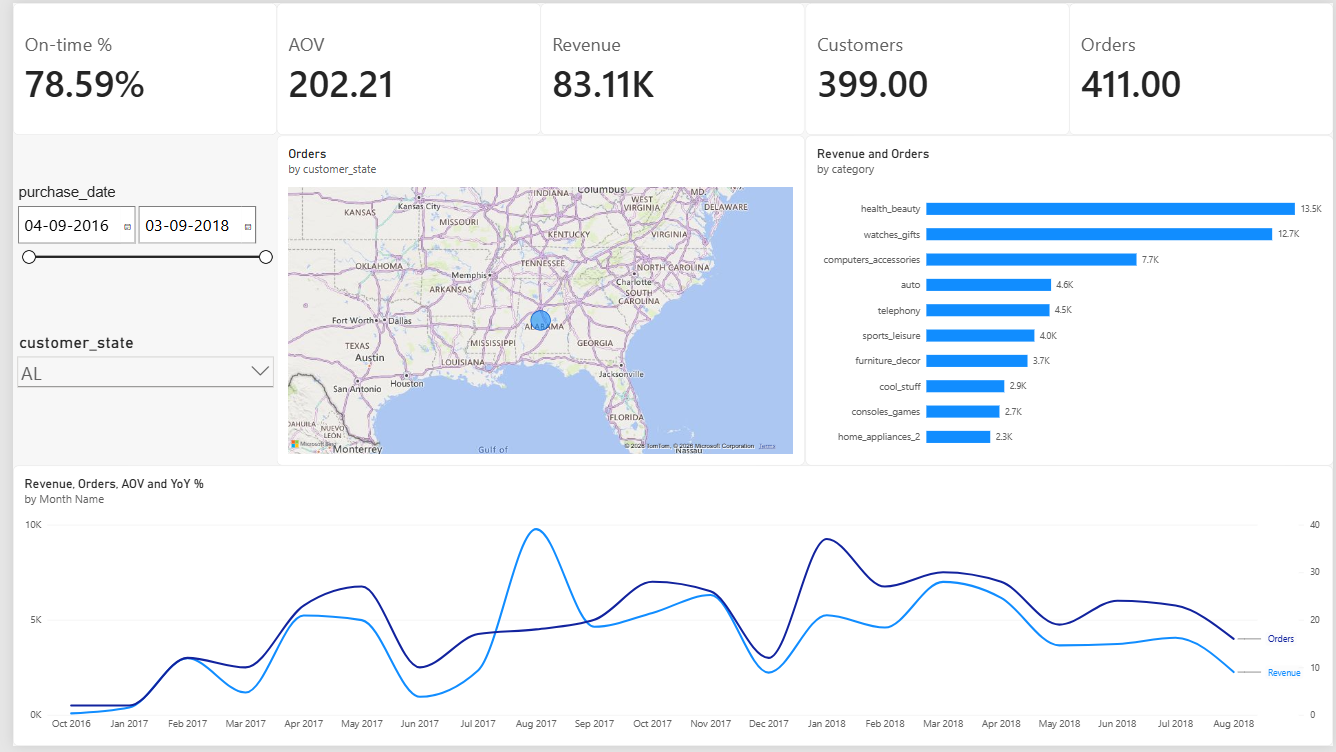

The dashboard page shown, as its layout file describes it:
{"tool":"powerbi","page":{"name":"Overview","canvas":[1920,1080],"ordinal":0},"visuals":[{"type":"cardVisual","fields":{"Data":["DimDate.Revenue"]},"box":[768,0,384,192],"z":0},{"type":"cardVisual","fields":{"Data":["DimDate.Orders"]},"box":[1536,0,384,192],"z":1000},{"type":"cardVisual","fields":{"Data":["DimDate.Customers"]},"box":[1152,0,384,192],"z":2000},{"type":"cardVisual","fields":{"Data":["DimDate.AOV"]},"box":[384,0,384,192],"z":3000},{"type":"cardVisual","fields":{"Data":["DimDate.On-time %"]},"box":[0,0,384,192],"z":4000},{"type":"lineChart","fields":{"Category":["DimDate.Month Name"],"Y":["DimDate.Revenue"],"Y2":["DimDate.Orders"]},"box":[0,672,1920,408],"z":5000},{"type":"barChart","fields":{"Category":["public bi_fact_sales.category"],"Y":["DimDate.Revenue"]},"box":[1152,192,768,480],"z":6000},{"type":"map","fields":{"Category":["public bi_fact_sales.customer_state"],"Size":["DimDate.Orders"]},"box":[384,192,768,480],"z":7000},{"type":"slicer","fields":{"Values":["public bi_fact_sales.purchase_date"]},"box":[0,264,384,144],"z":8000},{"type":"slicer","fields":{"Values":["public bi_fact_sales.customer_state"]},"box":[0,480,384,96],"z":9000}]}

Visuals, with their boxes in screenshot pixels (x1, y1, x2, y2), scaled from the page's 1920x1080 canvas onto the 1336x752 screenshot:
cardVisual - DimDate.Revenue: pyautogui.locateOnScreen(534, 0, 802, 134)
cardVisual - DimDate.Orders: pyautogui.locateOnScreen(1069, 0, 1335, 134)
cardVisual - DimDate.Customers: pyautogui.locateOnScreen(802, 0, 1069, 134)
cardVisual - DimDate.AOV: pyautogui.locateOnScreen(267, 0, 534, 134)
cardVisual - DimDate.On-time %: pyautogui.locateOnScreen(0, 0, 267, 134)
lineChart - DimDate.Month Name x DimDate.Revenue: pyautogui.locateOnScreen(0, 468, 1335, 751)
barChart - public bi_fact_sales.category x DimDate.Revenue: pyautogui.locateOnScreen(802, 134, 1335, 468)
map - public bi_fact_sales.customer_state x DimDate.Orders: pyautogui.locateOnScreen(267, 134, 802, 468)
slicer - public bi_fact_sales.purchase_date: pyautogui.locateOnScreen(0, 184, 267, 284)
slicer - public bi_fact_sales.customer_state: pyautogui.locateOnScreen(0, 334, 267, 401)
